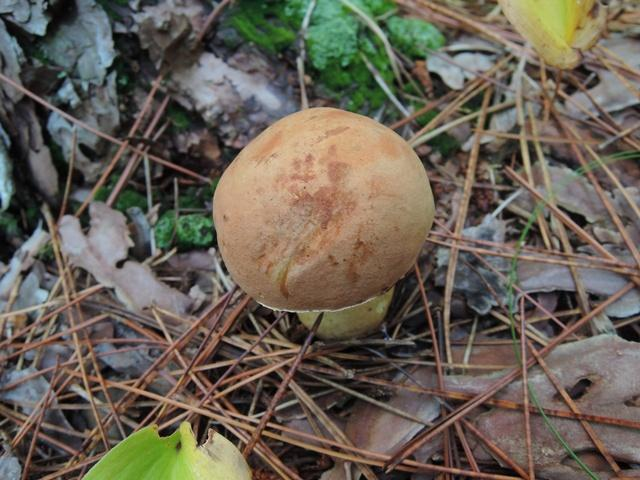poisonous_mushroom: (210, 105, 436, 341)
